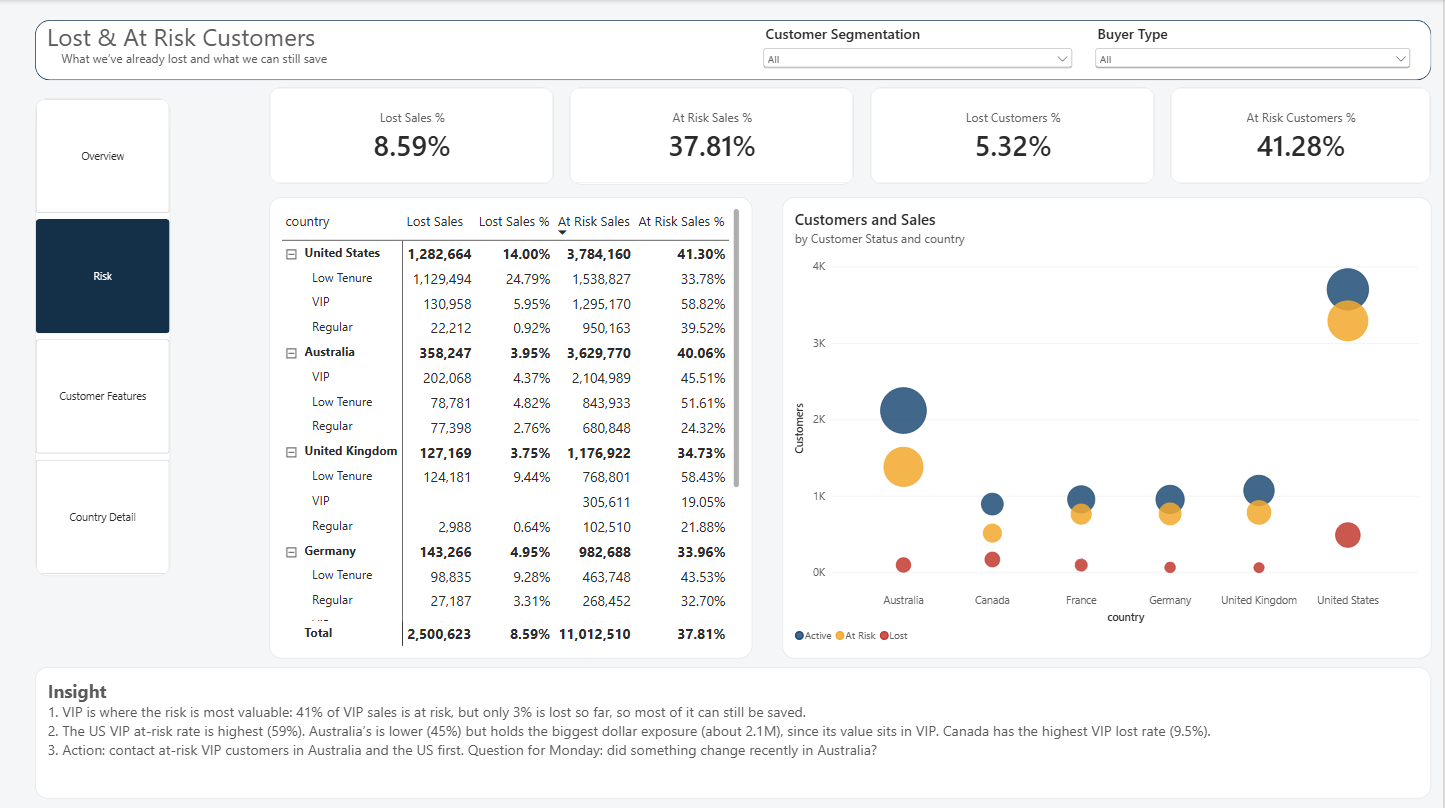

This screenshot's page, from the dashboard's own definition file:
{"tool":"powerbi","page":{"name":"Risk","canvas":[1920,1080],"ordinal":1},"visuals":[{"type":"shape","box":[46.7,26.3,1857.3,80.2],"z":0},{"type":"cardVisual","fields":{"Data":["Measure Table.Lost Sales %"]},"box":[357.4,116.1,379,129],"z":1000},{"type":"cardVisual","fields":{"Data":["Measure Table.Lost Customer %"]},"box":[1157.1,116.1,379,129],"z":2000},{"type":"cardVisual","fields":{"Data":["Measure Table.At Risk Sales %"]},"box":[757.1,116.1,379.3,129.8],"z":3000},{"type":"cardVisual","fields":{"Data":["Measure Table.At Risk Customers %"]},"box":[1556.7,116.1,347.2,129],"z":4000},{"type":"slicer","fields":{"Values":["gold customer_report.Buyer Type"]},"box":[1441.5,32.1,449.4,70],"z":5000},{"type":"slicer","fields":{"Values":["gold customer_report.customer_segmentation"]},"box":[1000.9,32.1,440.6,67.1],"z":6000},{"type":"textbox","box":[62.7,26.3,550,51.1],"z":7000},{"type":"textbox","box":[77.3,67.1,631.7,39.4],"z":8000},{"type":"textbox","box":[46.9,886.9,1857.3,175.1],"z":9000},{"type":"pageNavigator","box":[46.7,129.8,180,636.1],"z":10000},{"type":"pivotTable","fields":{"Rows":["gold customer_report.country","gold customer_report.customer_segmentation"],"Values":["Measure Table.Lost Sales","Measure Table.Lost Sales %","Measure Table.At Risk Sales","Measure Table.At Risk Sales %"]},"box":[357.8,262.2,643.1,613.8],"z":11000},{"type":"scatterChart","fields":{"Series":["gold customer_report.customer_status"],"Size":["Measure Table.Sales"],"X":["gold customer_report.country"],"Y":["Measure Table.Customers"]},"box":[1039.5,262.3,864.2,614.2],"z":12000}]}

Visuals, with their boxes in screenshot pixels (x1, y1, x2, y2), scaled from the page's 1920x1080 canvas onto the 1445x808 screenshot:
shape: 35:20:1433:80
cardVisual - Measure Table.Lost Sales %: 269:87:554:183
cardVisual - Measure Table.Lost Customer %: 871:87:1156:183
cardVisual - Measure Table.At Risk Sales %: 570:87:855:184
cardVisual - Measure Table.At Risk Customers %: 1172:87:1433:183
slicer - gold customer_report.Buyer Type: 1085:24:1423:76
slicer - gold customer_report.customer_segmentation: 753:24:1085:74
textbox: 47:20:461:58
textbox: 58:50:534:80
textbox: 35:664:1433:795
pageNavigator: 35:97:171:573
pivotTable - gold customer_report.country x gold customer_report.customer_segmentation: 269:196:753:655
scatterChart - gold customer_report.customer_status x Measure Table.Sales: 782:196:1433:656
